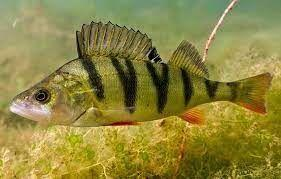Perch: (11, 20, 274, 127)
